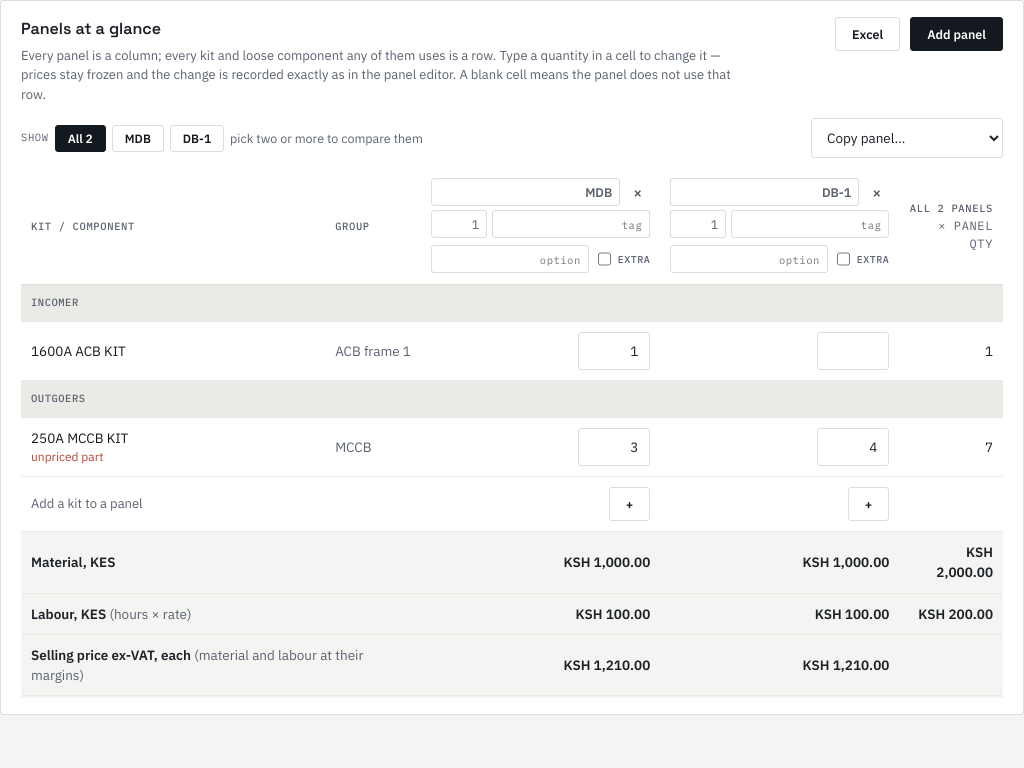
Test: the costing grid › marks the rows that differ when two columns are compared
Click the button "MDB". click: point(138, 138)
box: [112,125,164,152]
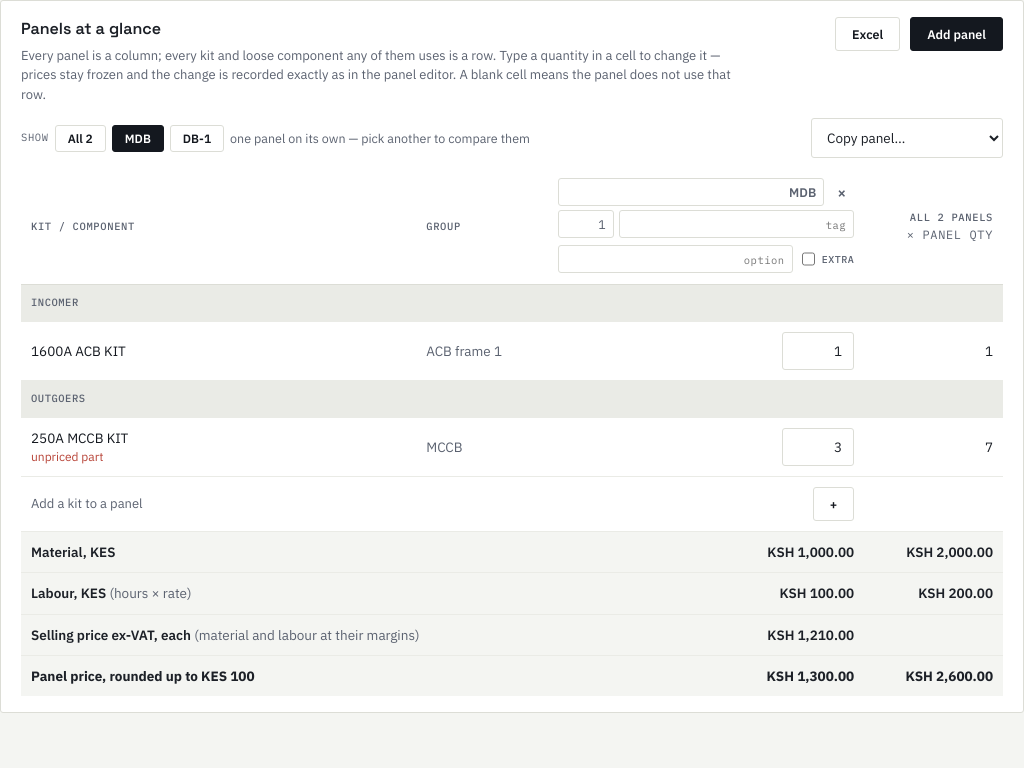
Click the button "DB-1". click: point(197, 138)
box: [170,125,224,152]
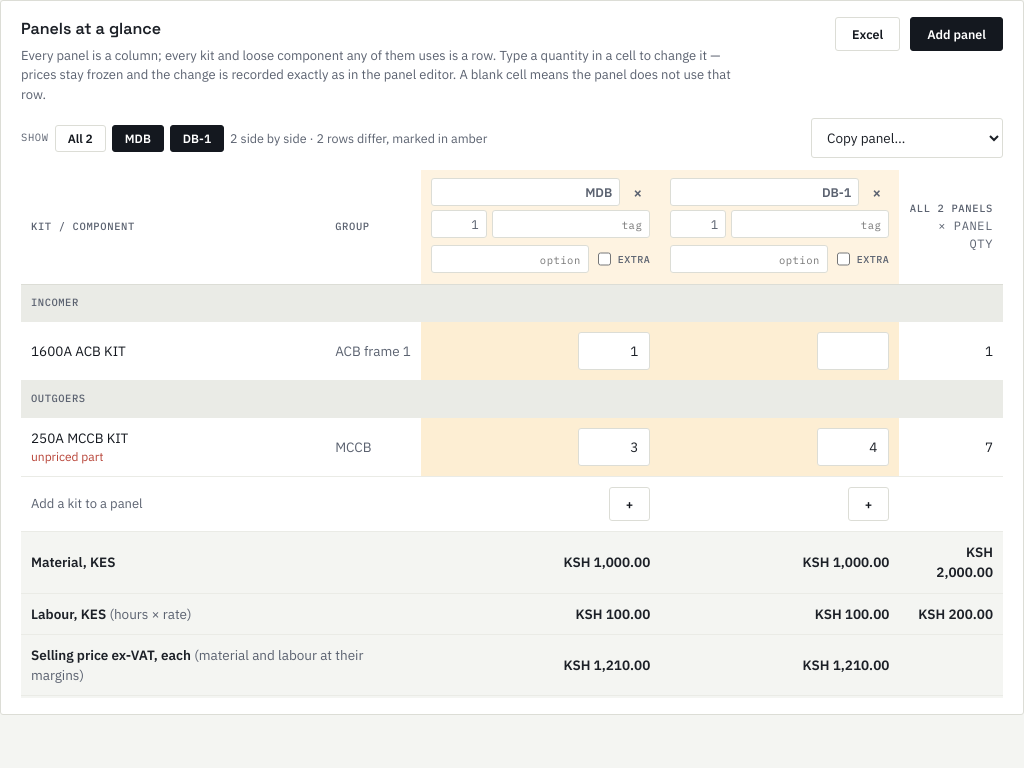
Result: the text "2 side by side · 2 rows differ, marked in amber" is shown at [230,129,487,148]
